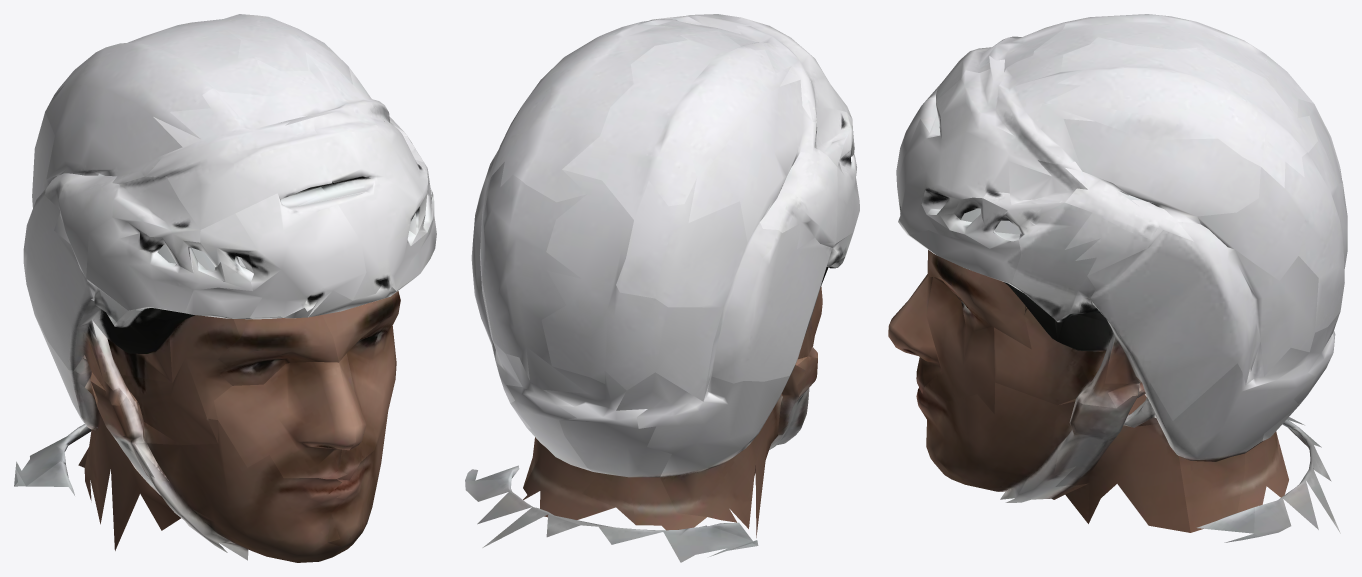
The model's file is head_D.glb.
3 views of the same model, side by side, from view 1: azimuth 30°, elevation 25°; view 2: azimuth 150°, elevation 25°; view 3: azimuth 270°, elevation 25° (orthographic). The views are drawn at different scales.
Visible parts, largest first — view 1: head; view 2: head; view 3: head.
Boxes of the visible parts, x1,y1,x2,y2 form: head: (14,14,436,562); head: (465,14,859,562); head: (888,14,1347,542).
Bounding box in the file's own units: 0.201 × 0.2905 × 0.2533.
Materials: 1 (1 with a texture image).
